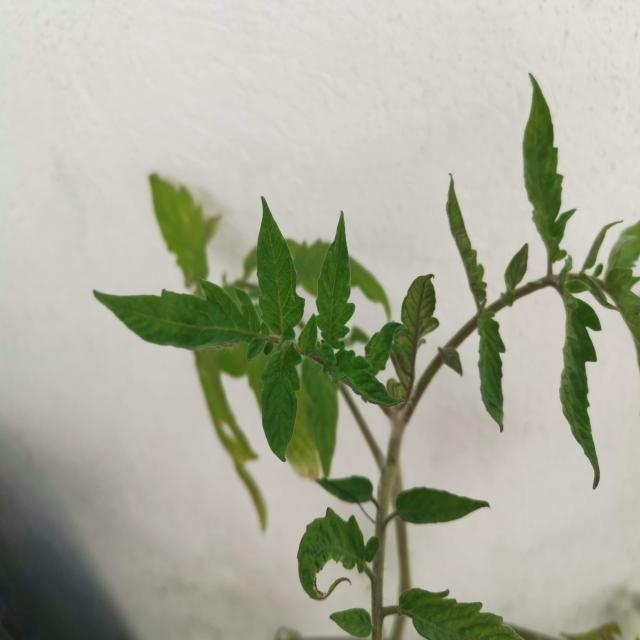T_L_R: (95, 279, 262, 352), (299, 509, 380, 601), (257, 198, 305, 337), (400, 589, 521, 640), (316, 211, 357, 350), (261, 343, 303, 464), (324, 349, 405, 408)
